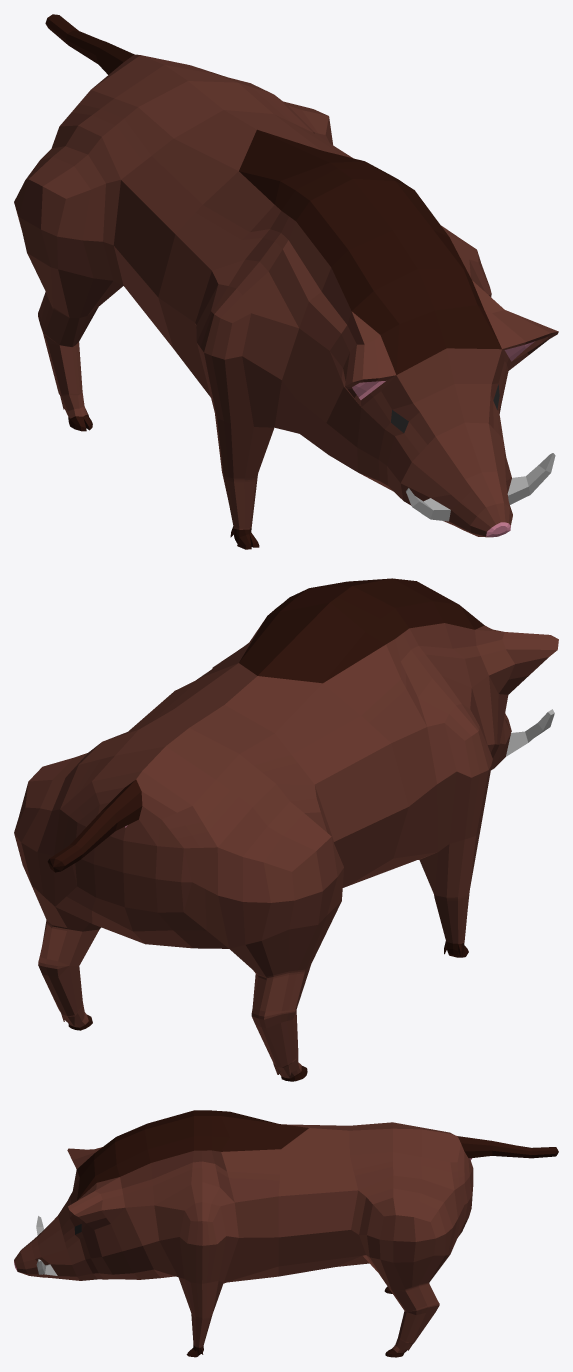
Rendered from Boar.glb.
3 renders of one model, top to bottom at view 1: azimuth 30°, elevation 25°; view 2: azimuth 150°, elevation 25°; view 3: azimuth 270°, elevation 25°, orthographic. The views are drawn at different scales.
Parts seen in each view (by area): view 1: Boar; view 2: Boar; view 3: Boar.
Part boxes in pixels (box(x1,y1,x2,y2)): Boar: box(14, 14, 558, 549); Boar: box(14, 578, 558, 1081); Boar: box(14, 1110, 558, 1357).
Size of the model in its own units: 1.66 by 1.79 by 4.25.
